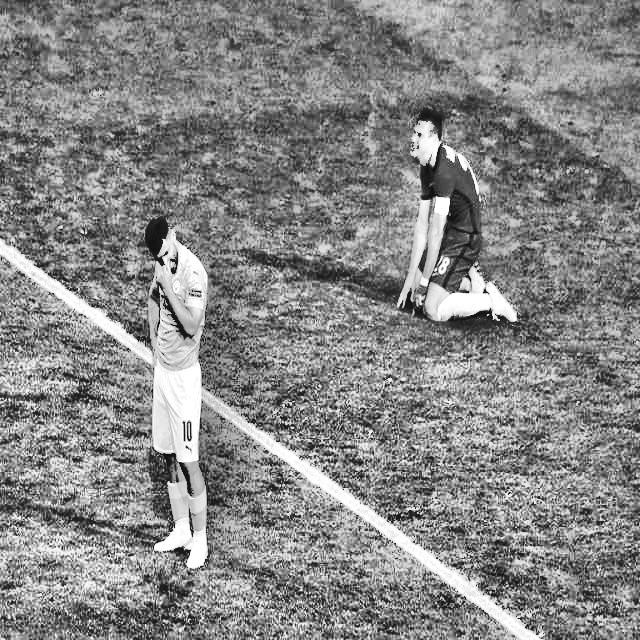sad: (406, 102, 442, 166)
